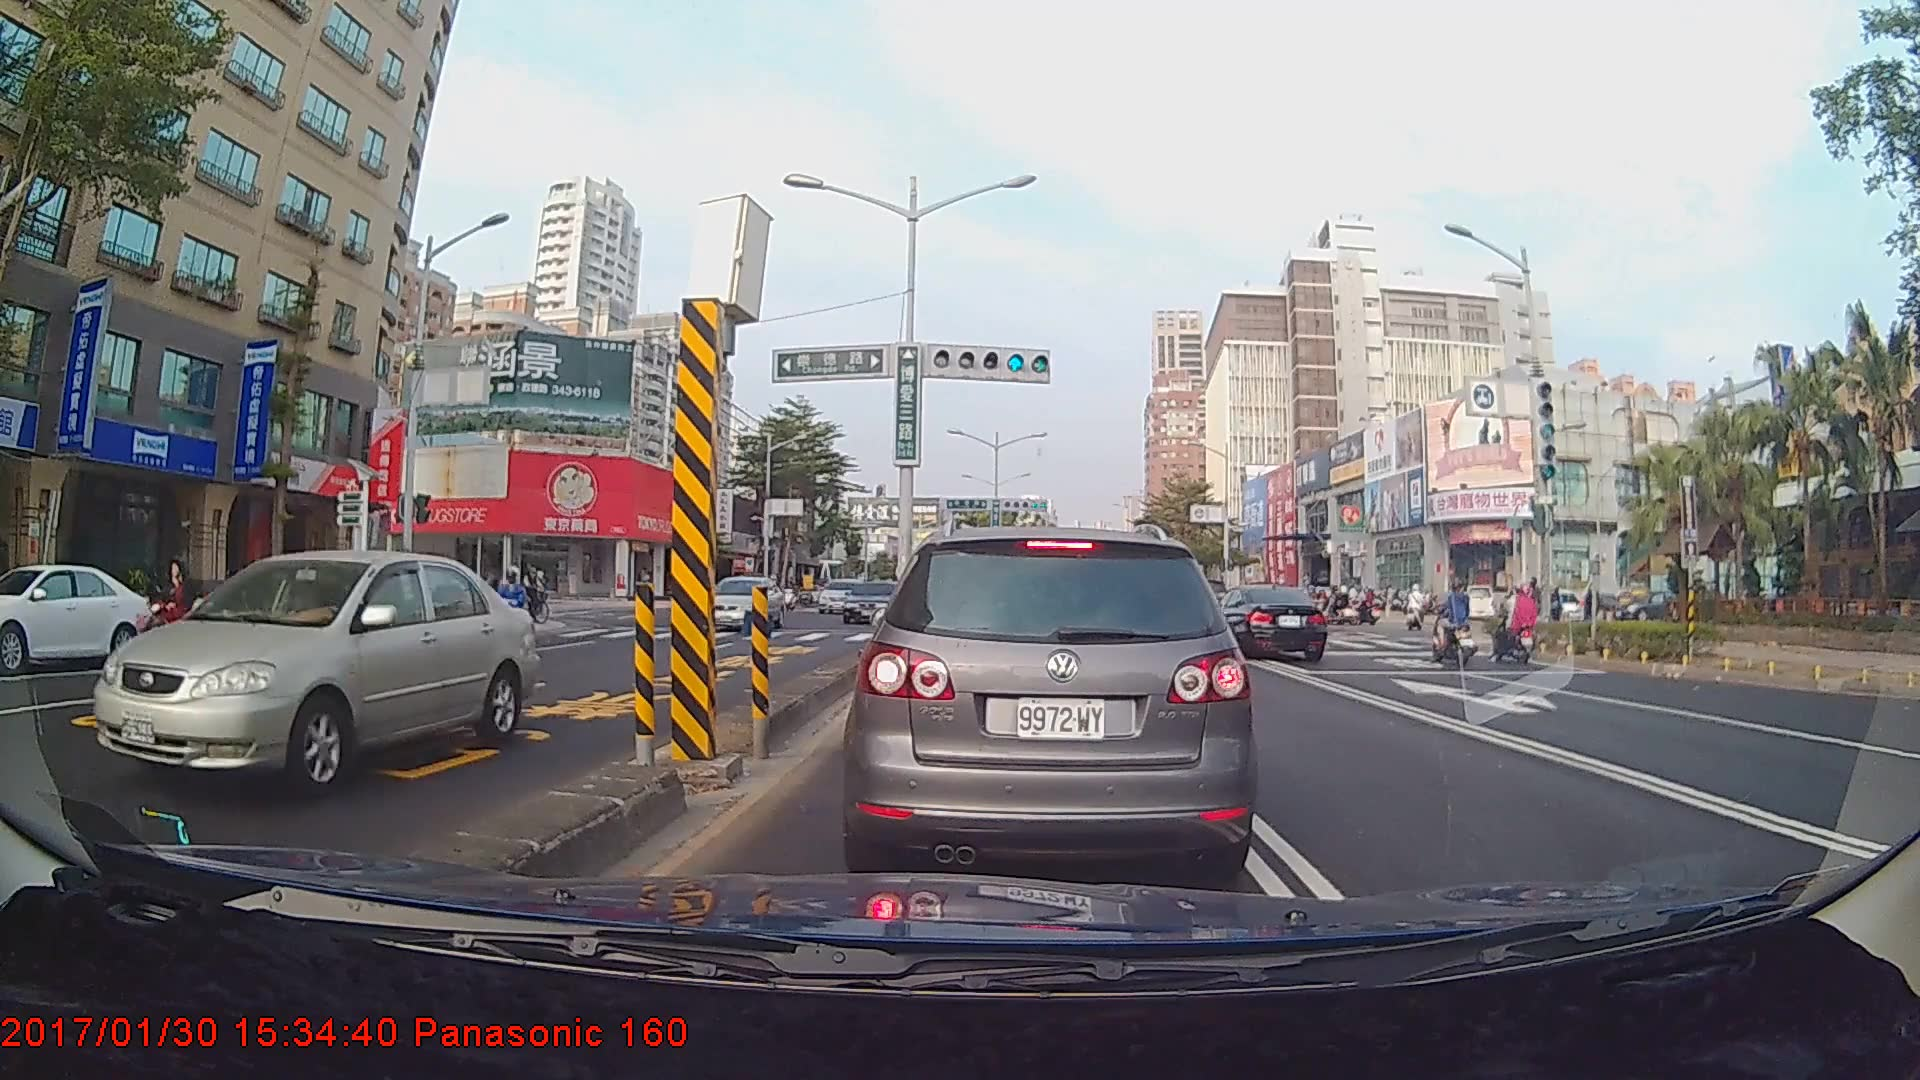rider: (121, 561, 205, 676), (1485, 582, 1548, 668), (1425, 580, 1485, 666), (1436, 582, 1473, 646)
vehicle: (854, 522, 1247, 881), (87, 549, 537, 800), (0, 561, 157, 671), (1197, 582, 1329, 664), (696, 574, 786, 631), (840, 577, 905, 624), (815, 577, 870, 614)
